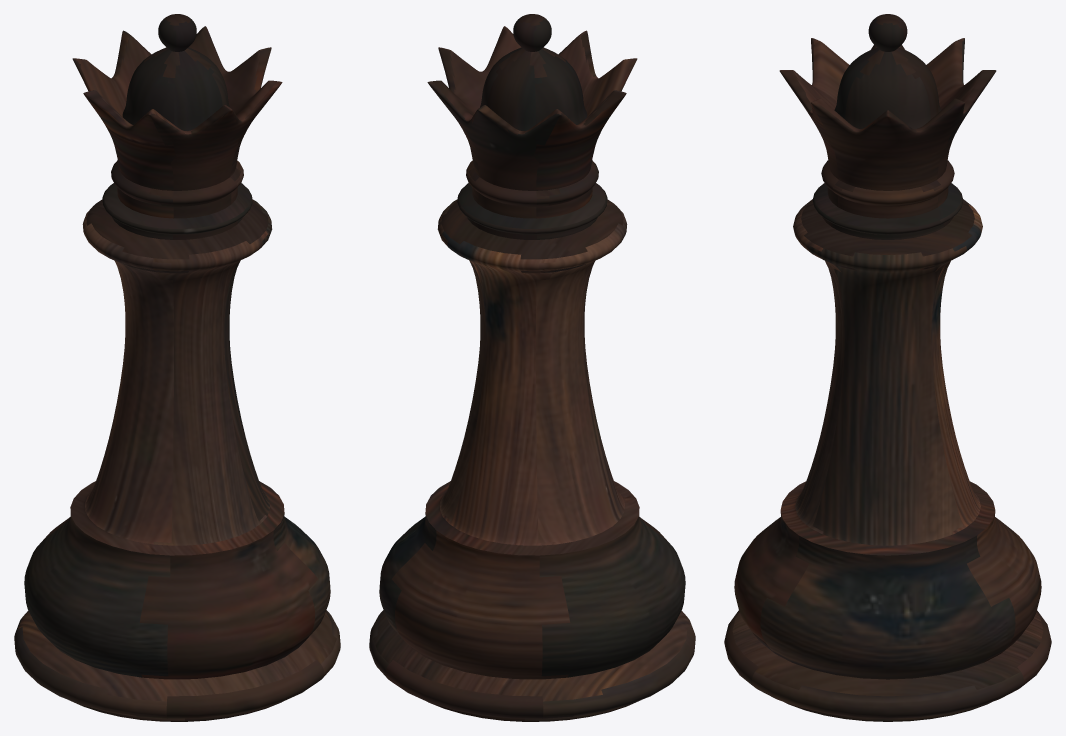
Rendered from queen.glb.
The picture shows the model from 3 angles, left to right: view 1: azimuth 30°, elevation 25°; view 2: azimuth 150°, elevation 25°; view 3: azimuth 270°, elevation 25°; orthographic projection.
Parts seen in each view (by area): view 1: queen_copy19; view 2: queen_copy19; view 3: queen_copy19.
Part boxes in pixels (x1,y1,x2,y2): queen_copy19: [14, 14, 340, 721]; queen_copy19: [369, 14, 695, 721]; queen_copy19: [724, 14, 1051, 721].
Bounding box in the file's own units: 4.76 × 10.37 × 4.76.
1 material, 1 textured.
